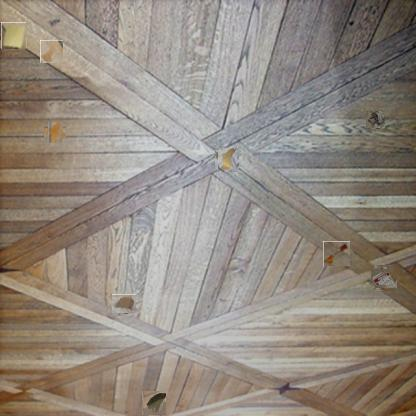dirty: (323, 241, 350, 266), (1, 22, 26, 49), (142, 392, 166, 416), (373, 266, 396, 289), (216, 149, 238, 171), (114, 293, 135, 315), (366, 112, 384, 130)
liquid: (40, 40, 63, 63), (46, 123, 64, 141)
